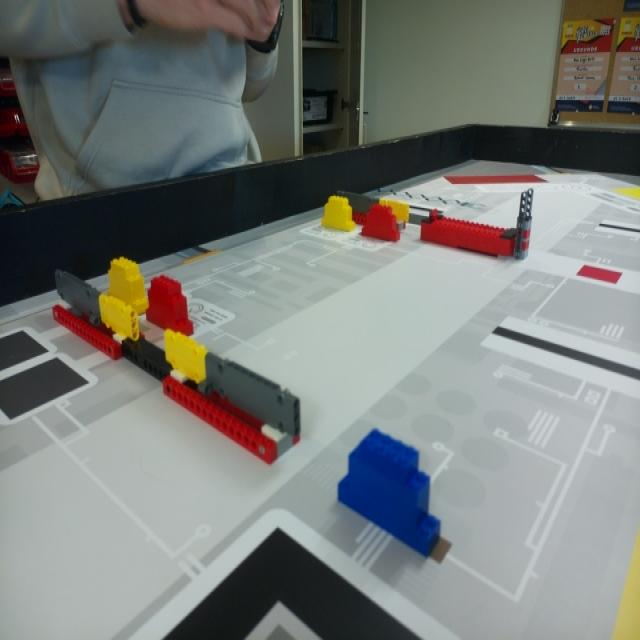blau: (337, 428, 441, 552)
rot: (147, 271, 195, 334), (361, 202, 399, 242)
yellow: (109, 258, 147, 304), (324, 199, 350, 231)
